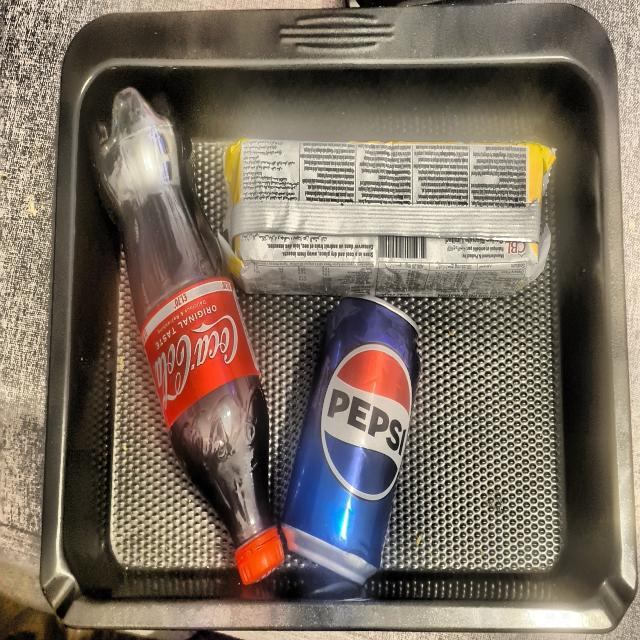coke-bottle: (96, 91, 288, 572)
lemon puff: (227, 134, 547, 302)
pepsi-can: (297, 305, 419, 584)
